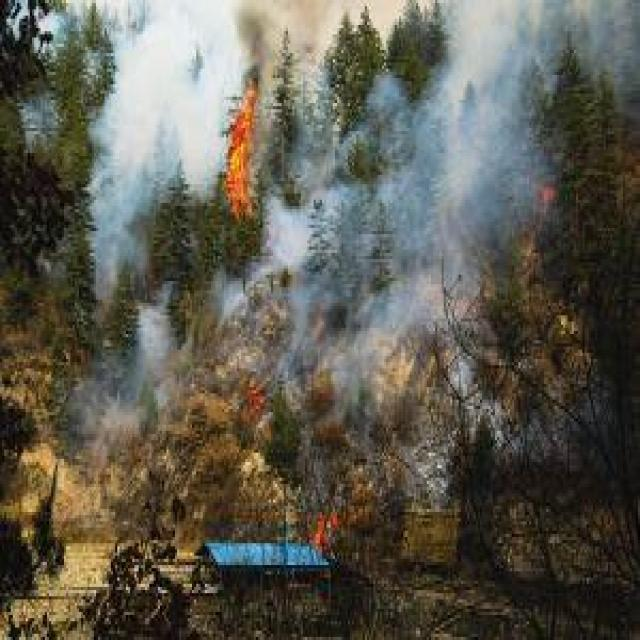fire: (217, 85, 257, 217), (302, 493, 343, 548), (535, 176, 554, 198)
smoke: (117, 14, 215, 165), (430, 86, 495, 169)
